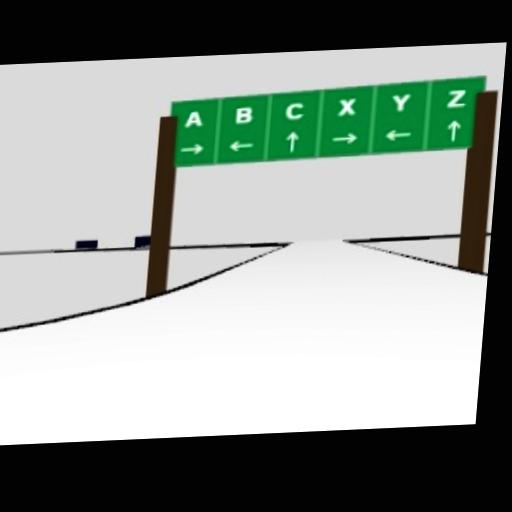A: (183, 110, 204, 128)
B: (234, 107, 255, 125)
C: (285, 101, 305, 120)
Left: (383, 126, 413, 141), (227, 138, 255, 151)
Right: (178, 142, 205, 156), (331, 133, 358, 144)
Straight: (284, 130, 301, 153), (446, 119, 462, 142)
X: (336, 96, 356, 116)
Y: (389, 92, 411, 112)
Z: (446, 88, 467, 108)
